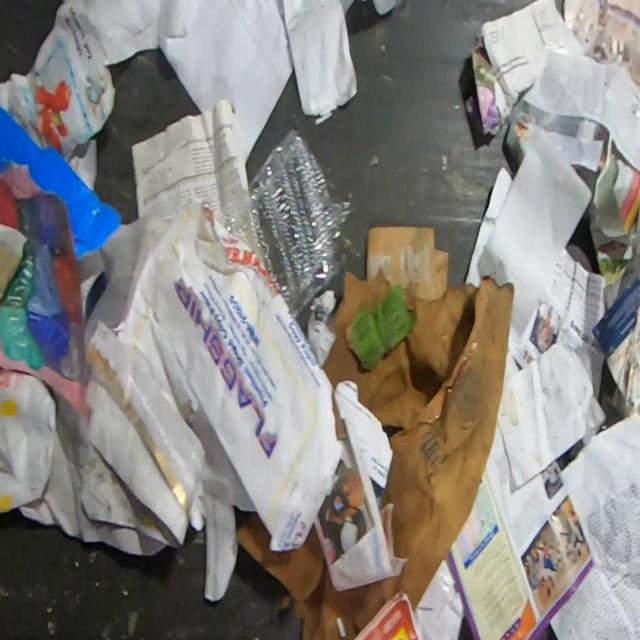cardboard: (237, 264, 516, 639), (0, 104, 121, 259), (364, 225, 450, 299)
rigid_plastic: (218, 128, 352, 319)
